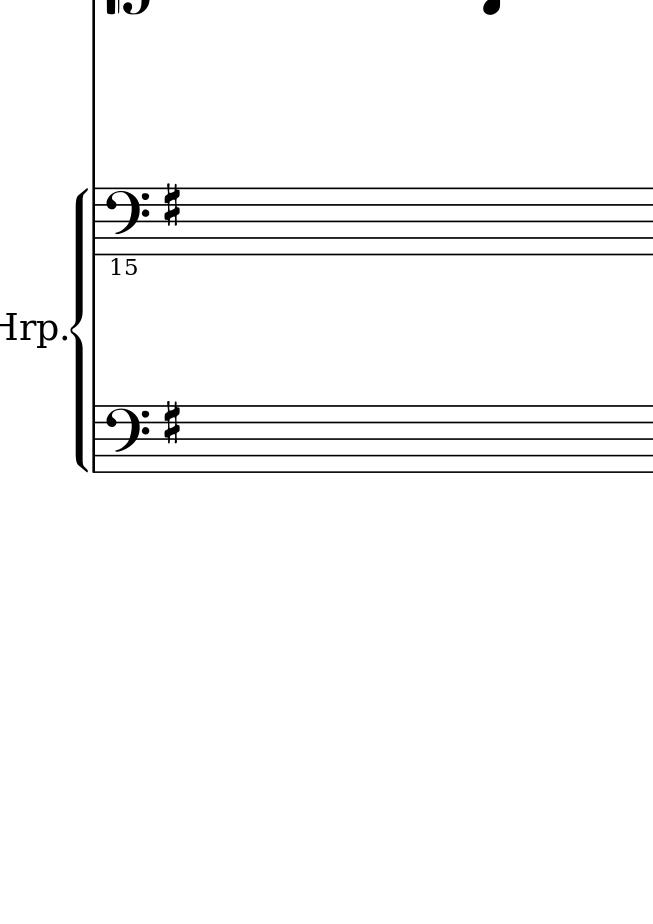Brace: (69, 184, 89, 475)
DHigh_Fclef: (103, 186, 149, 281)
Fclef: (101, 404, 150, 473)
Hrp: (1, 309, 57, 347)
Sharp: (160, 180, 184, 230), (160, 398, 183, 448)
Single_barline: (87, 189, 103, 253), (88, 407, 102, 472)
